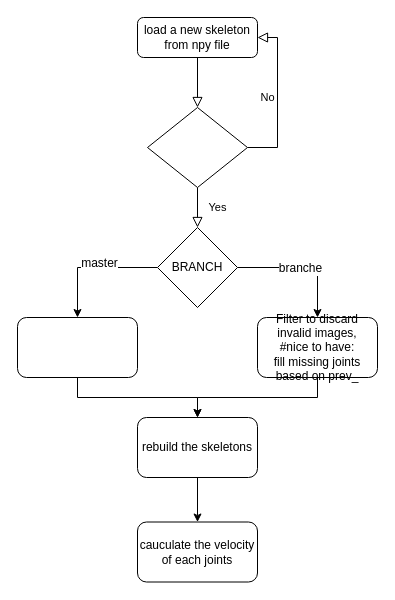
Image size: 395x600. Some labels were removed from this diagram. The box of each missing label's shape, as (x1, y1, x2, y2) in pixels:
Filter at step1 or 2 #nice to have: fill missing joints based on prev_: (16, 316, 138, 378)
load process sucess?: (146, 106, 248, 188)
